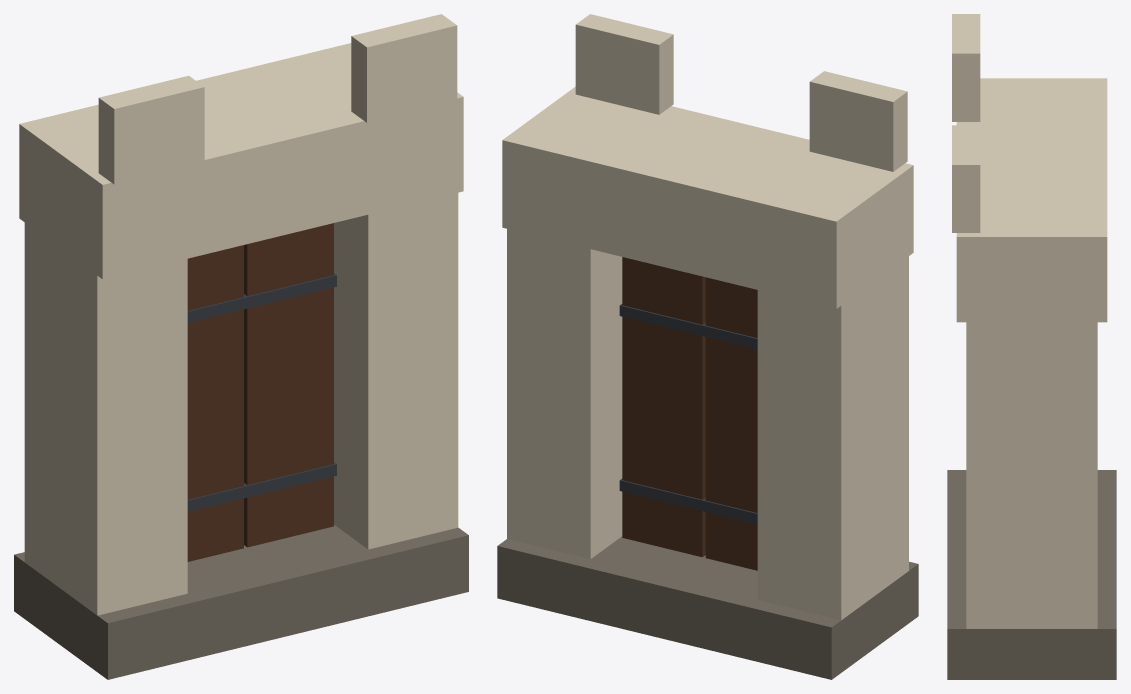
The model's file is wall_gate.glb.
The picture shows the model from 3 angles, left to right: view 1: azimuth 30°, elevation 25°; view 2: azimuth 150°, elevation 25°; view 3: azimuth 270°, elevation 25°; orthographic projection. The views are drawn at different scales.
Visible parts, largest first — view 1: wall_gate; view 2: wall_gate; view 3: wall_gate.
Boxes of the visible parts, x1,y1,x2,y2 form: wall_gate: (14, 14, 468, 679); wall_gate: (497, 14, 918, 679); wall_gate: (947, 14, 1116, 679).
Size of the model in its own units: 2 by 3 by 0.9.
